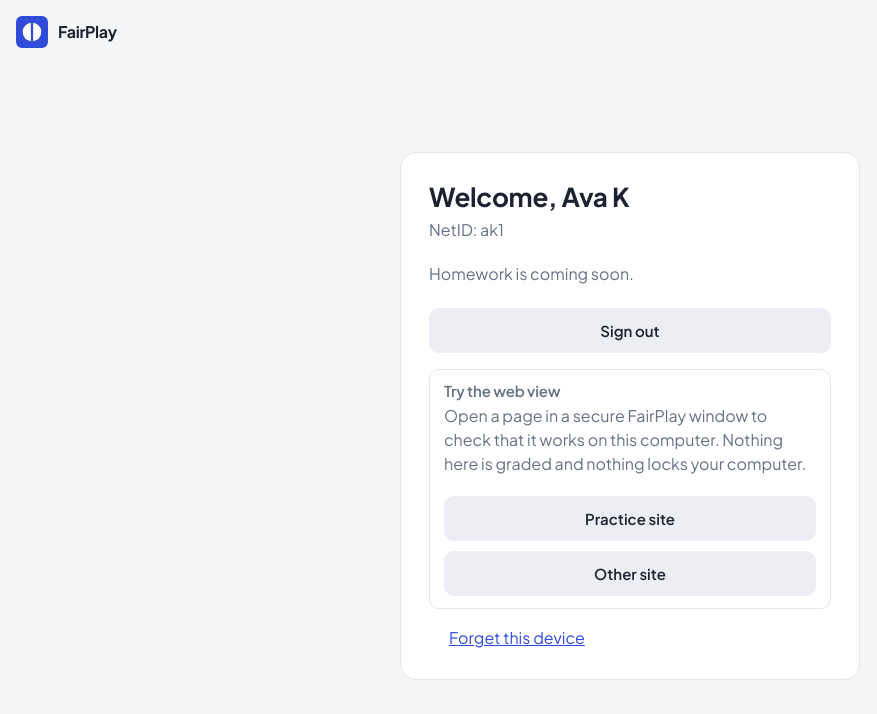
web view test section › shows a calm message on an error result
The image size is (877, 714).
Click the button "Practice site" at {"x": 630, "y": 519}, box [444,496,816,542]
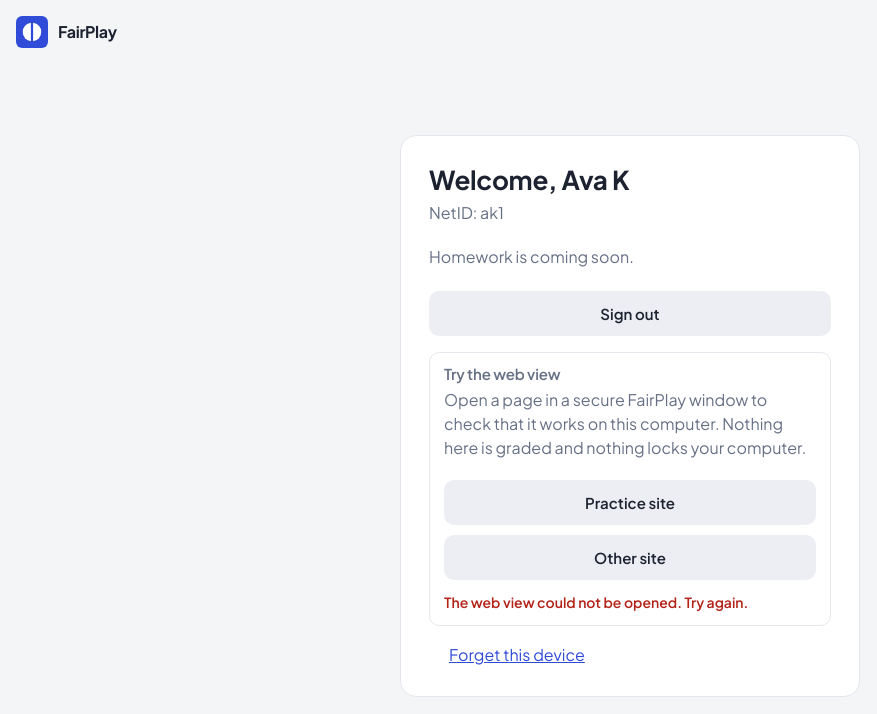
Expected: the button "Practice site" is enabled, [444,480,816,525]
Expected: the message reads "The web view could not be opened. Try again.", [444,593,748,611]
